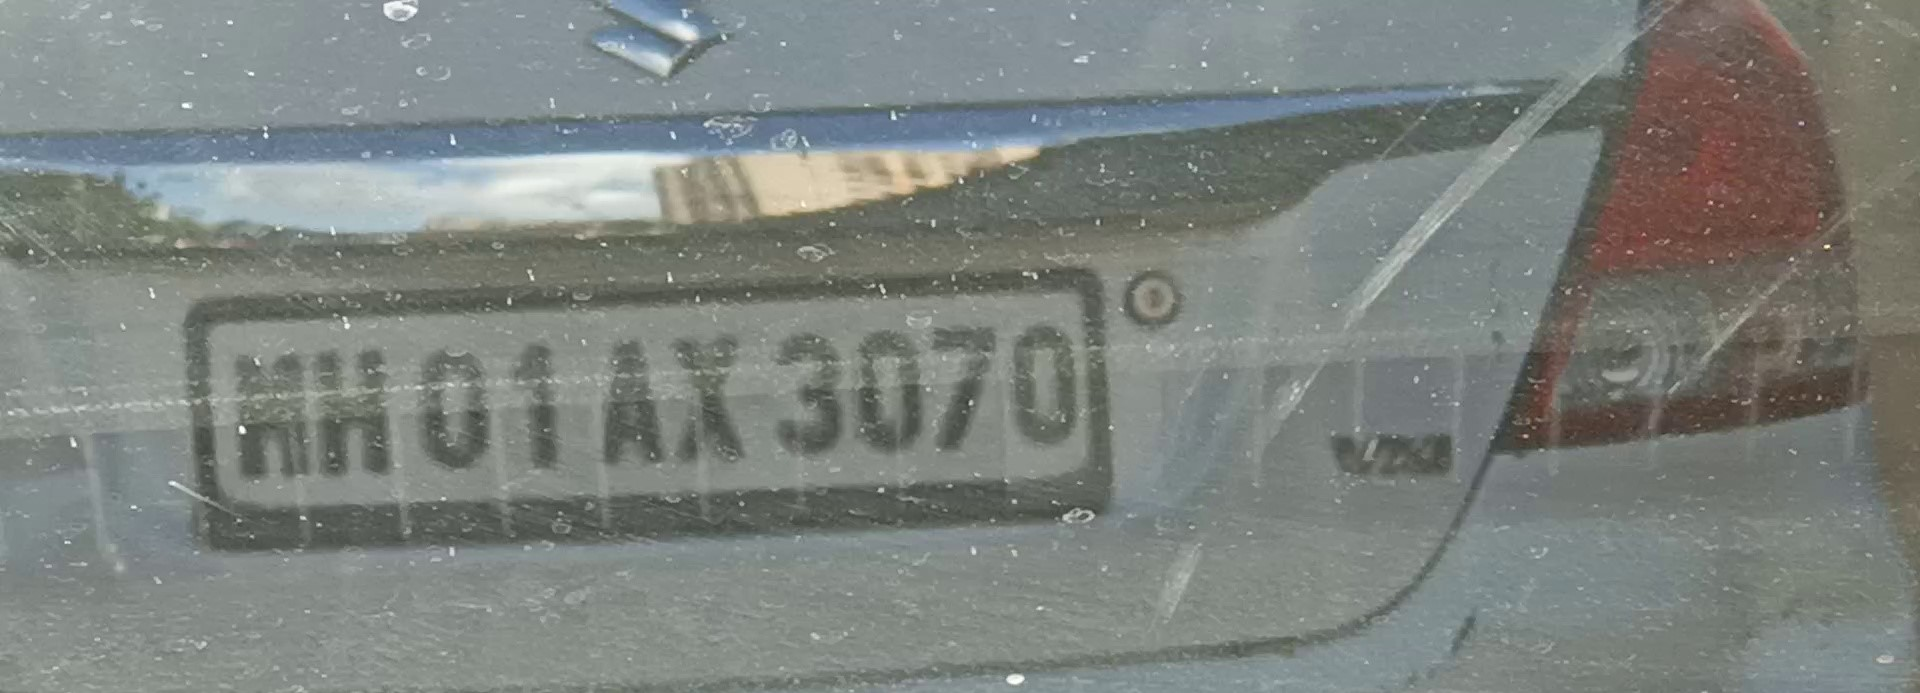MH01AX3070: (204, 284, 1089, 512)
